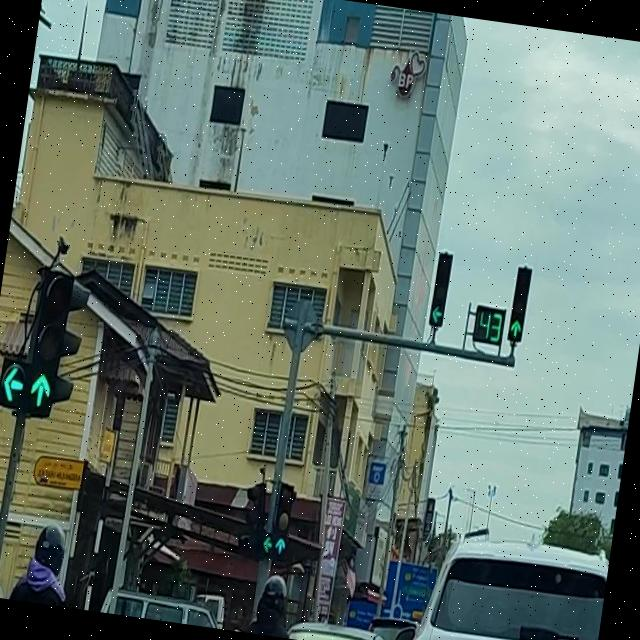green_light: (26, 270, 74, 419), (0, 266, 47, 407), (428, 252, 454, 327), (258, 482, 282, 558), (508, 268, 532, 344), (272, 484, 294, 558)
